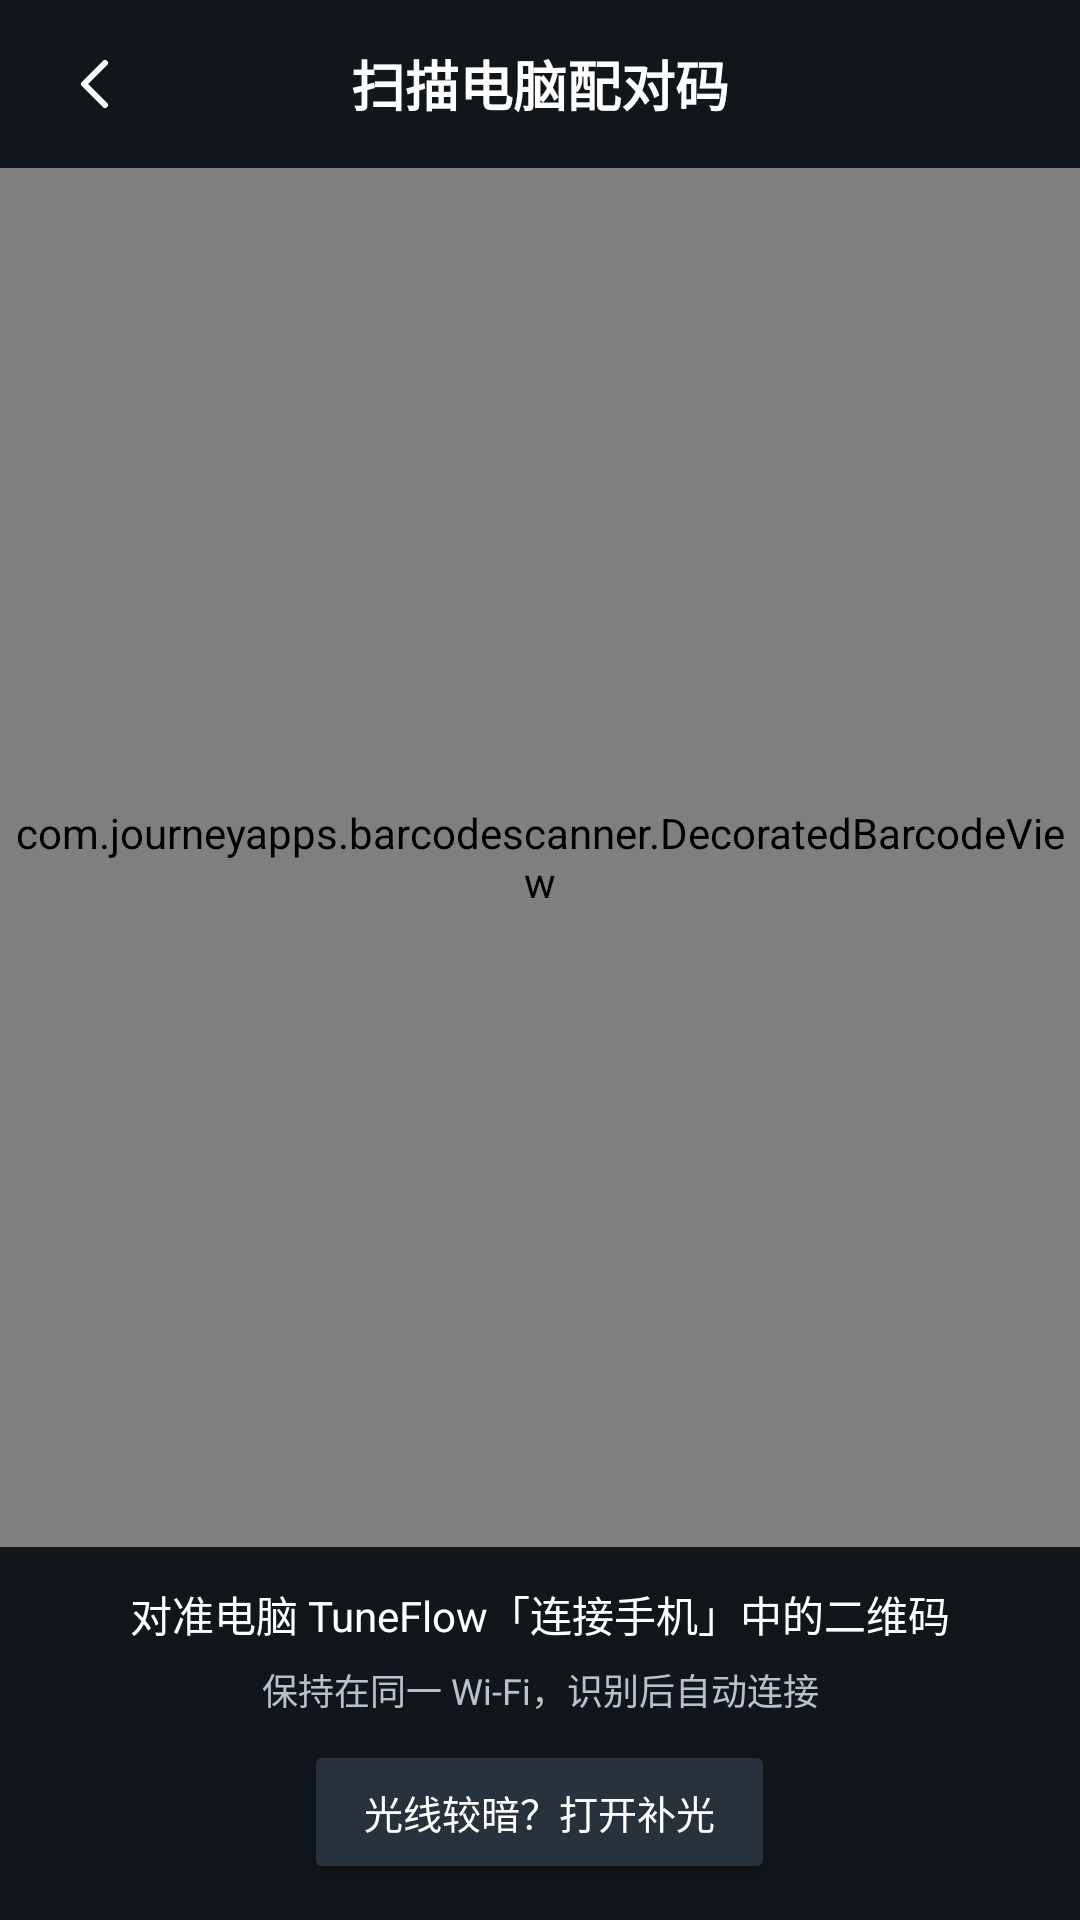

Icon bounding boxes for this 1080×1920 phone screenshot, format rect(x1, y1, x2, y2):
返回: rect(81, 60, 108, 108)
